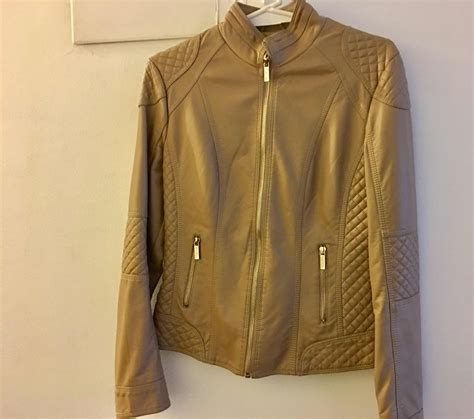cuero: (112, 2, 422, 419)
